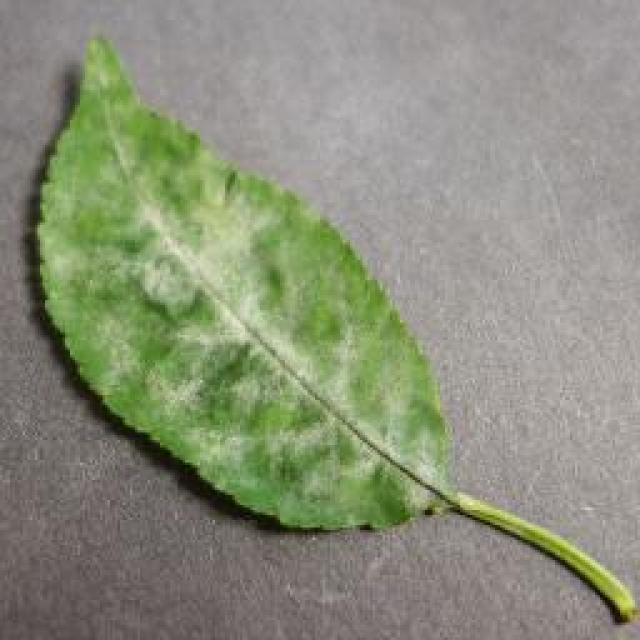Cherry___Powdery_mildew: (22, 13, 630, 635)
